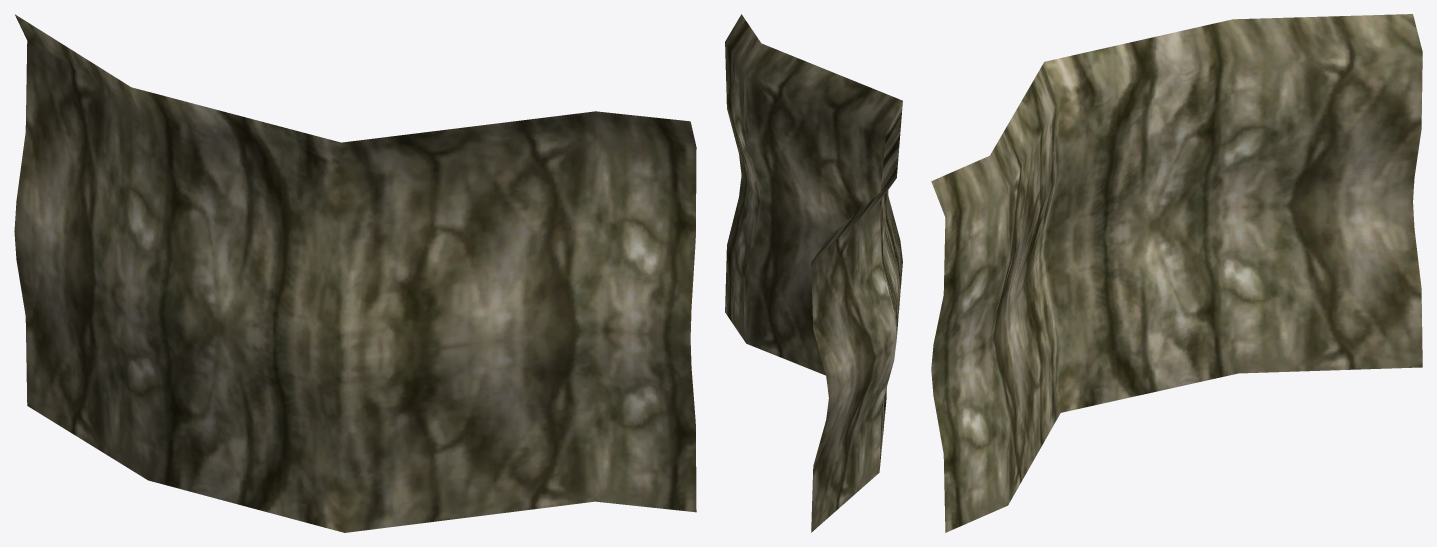
File: CB_NEWPLAYSURFACE_CB_PLAYSURFACE41.fbx
3 views of the same model, side by side, from view 1: azimuth 30°, elevation 25°; view 2: azimuth 150°, elevation 25°; view 3: azimuth 270°, elevation 25° (orthographic). The views are drawn at different scales.
Parts seen in each view (by area): view 1: CB_NEWPLAYSURFACE_CB_PLAYSURFACE41; view 2: CB_NEWPLAYSURFACE_CB_PLAYSURFACE41; view 3: CB_NEWPLAYSURFACE_CB_PLAYSURFACE41.
Boxes of the visible parts, <box> form: CB_NEWPLAYSURFACE_CB_PLAYSURFACE41: <box>14,14,696,532</box>; CB_NEWPLAYSURFACE_CB_PLAYSURFACE41: <box>725,14,902,532</box>; CB_NEWPLAYSURFACE_CB_PLAYSURFACE41: <box>931,14,1422,532</box>.
Bounding box in the file's own units: 79031 × 73541 × 94754.
Materials: 1 (1 with a texture image).
